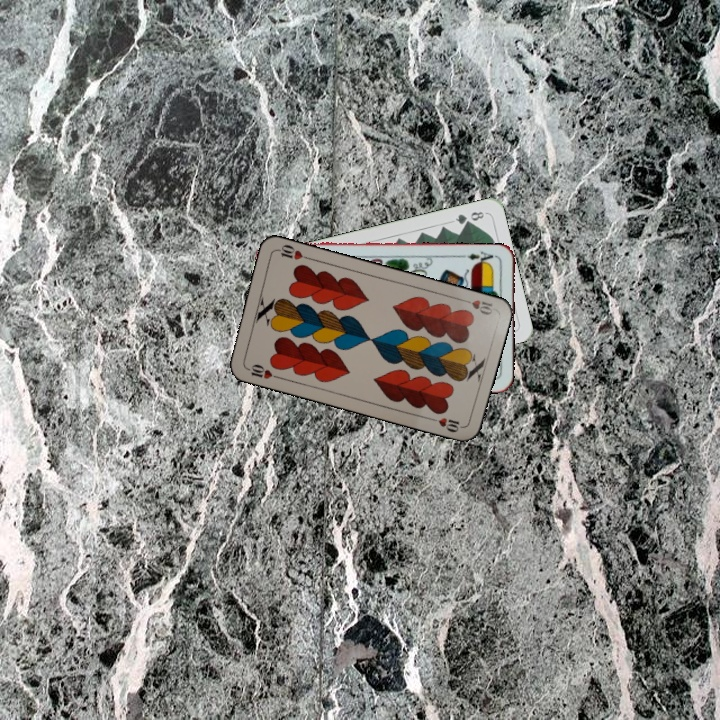EA: (458, 247, 499, 267)
G8: (451, 207, 487, 227)
H10: (457, 295, 496, 318), (242, 360, 282, 382)
